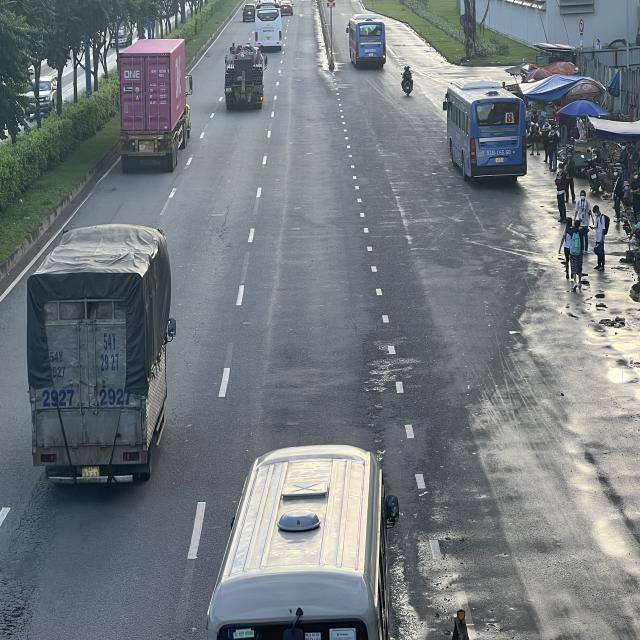coach: (205, 442, 402, 640), (442, 78, 527, 179), (346, 11, 386, 69), (255, 1, 282, 52)
container: (119, 37, 192, 172)
truck: (29, 222, 177, 486), (223, 44, 267, 110)
